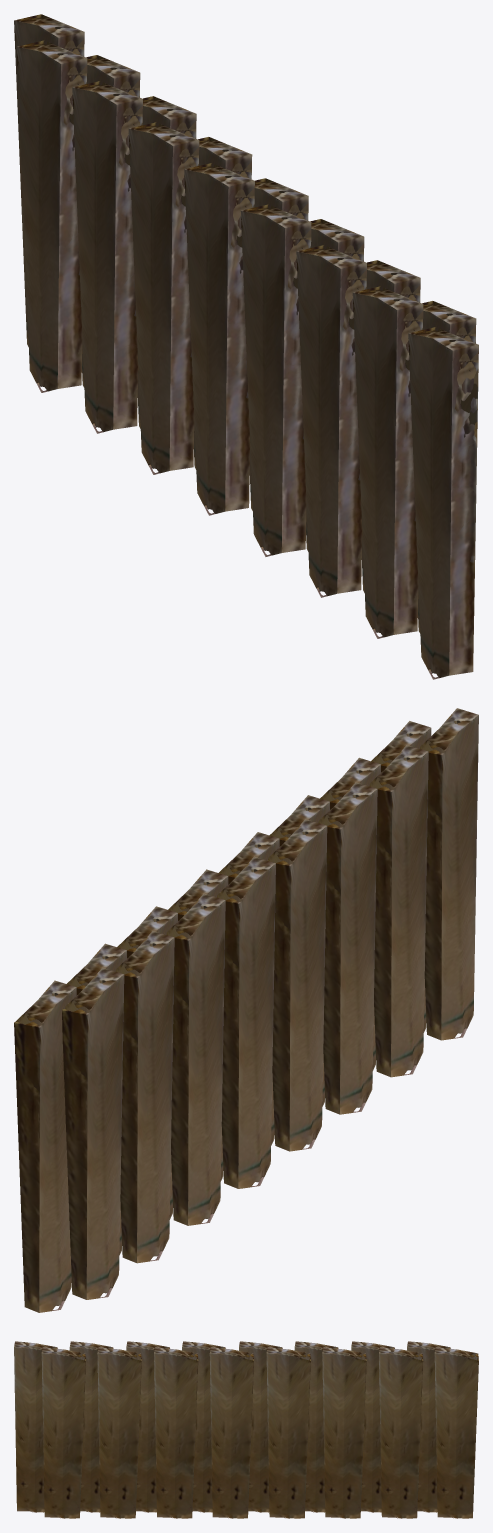
Rendered from Staket.fbx.
3 renders of one model, top to bottom at view 1: azimuth 30°, elevation 25°; view 2: azimuth 150°, elevation 25°; view 3: azimuth 270°, elevation 25°, orthographic. The views are drawn at different scales.
Parts seen in each view (by area): view 1: Cube.001; view 2: Cube.001; view 3: Cube.001.
Part boxes in pixels (x1,y1,x2,y2): Cube.001: [14, 14, 478, 679]; Cube.001: [14, 708, 478, 1312]; Cube.001: [14, 1341, 478, 1518].
Size of the model in its own units: 3.66 by 22.6 by 55.36.
Materials: 16 (16 with a texture image).
